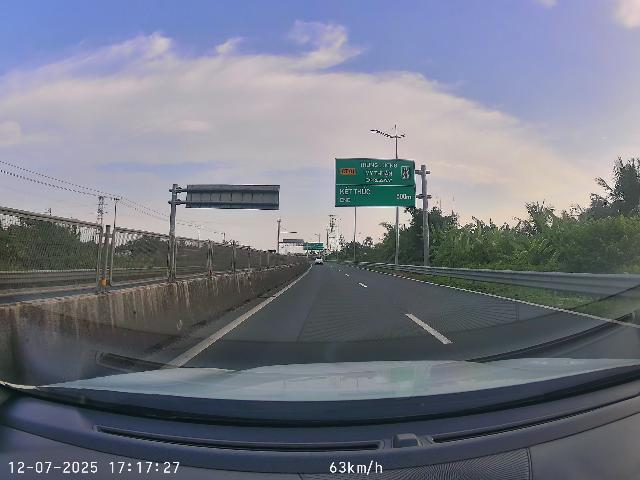438-ket-thuc-duong-cao-toc: (401, 166, 411, 180)
